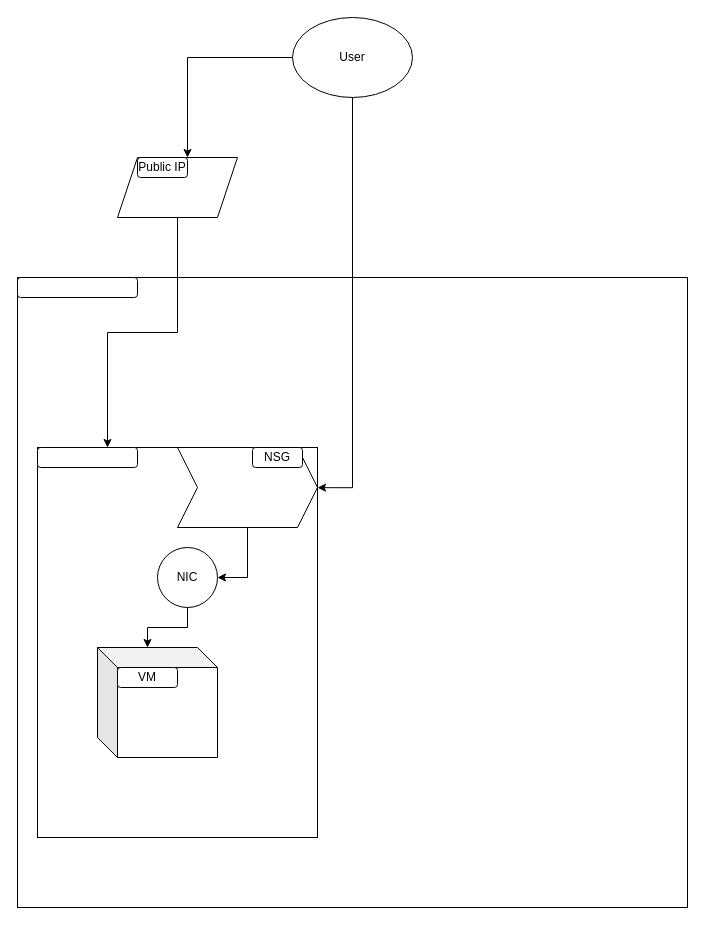
This 705x925 diagram has some shape labels left out. Here are the shapes that lost their labels. From the top down, the box of each, then its label:
(16, 276, 138, 298): VNet
(36, 446, 138, 468): Subnet
(176, 446, 318, 528): Allow SSH port 22 Allow TCP port 80
